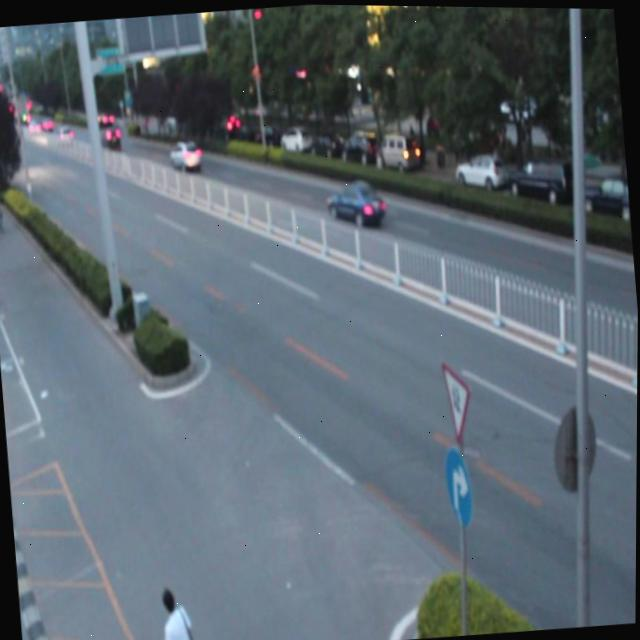car: (324, 177, 386, 229)
